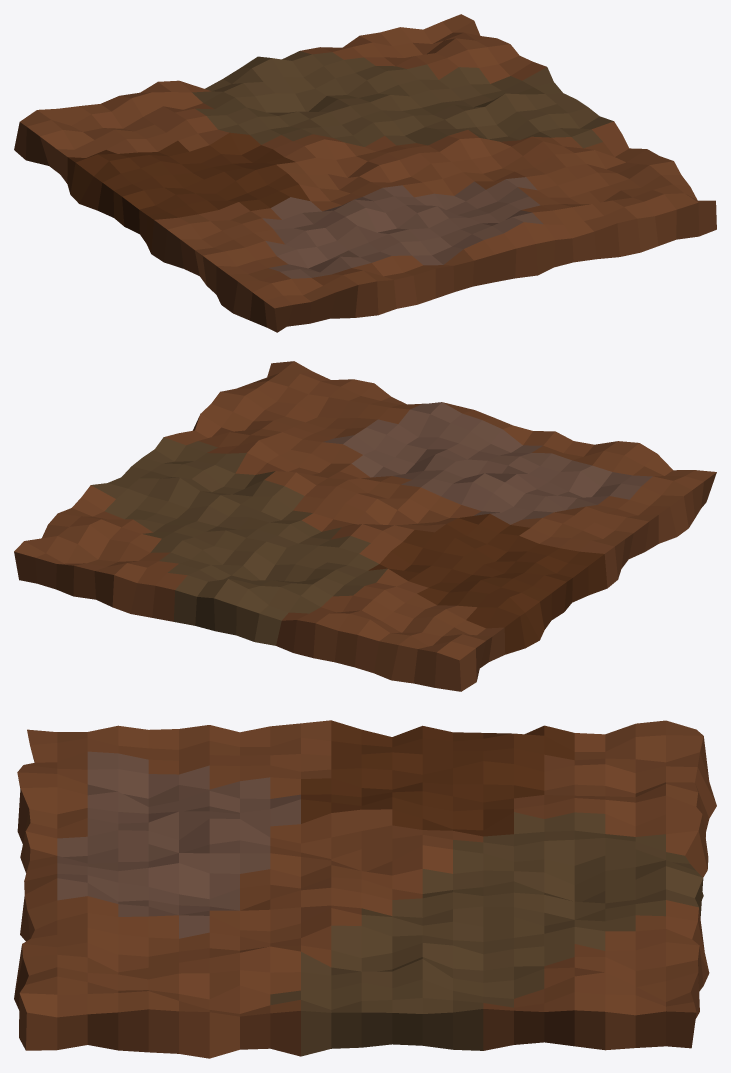
Rendered from Dirt.fbx.
3 views of the same model, one above another, from view 1: azimuth 30°, elevation 25°; view 2: azimuth 150°, elevation 25°; view 3: azimuth 270°, elevation 25° (orthographic). The views are drawn at different scales.
Visible parts, largest first — view 1: Plane.001; view 2: Plane.001; view 3: Plane.001.
Boxes of the visible parts, x1,y1,x2,y2 form: Plane.001: (14, 14, 716, 332); Plane.001: (14, 361, 716, 691); Plane.001: (14, 720, 716, 1058).
Size of the model in its own units: 2.1 by 0.186 by 2.1.
